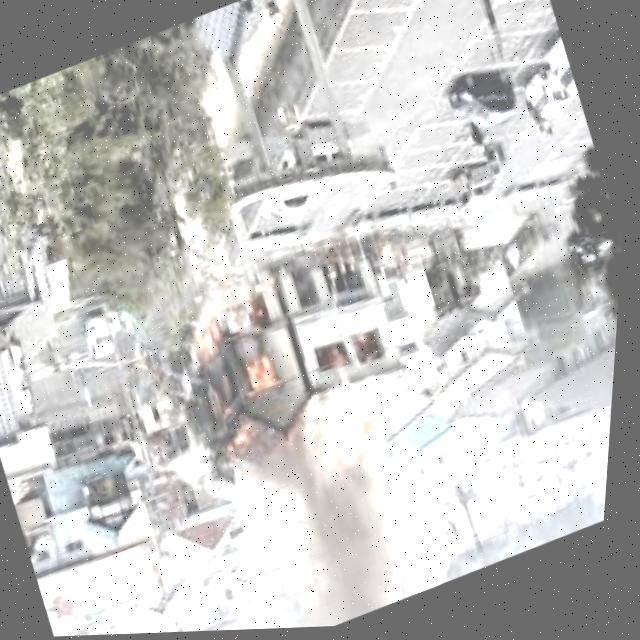Fire: (173, 287, 316, 457)
Smoke: (241, 395, 472, 632)
